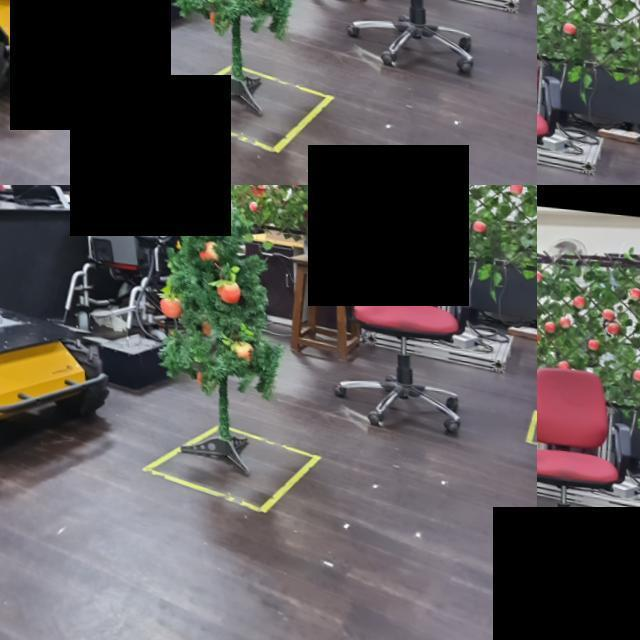Tree: (138, 204, 287, 476), (170, 1, 306, 120)
